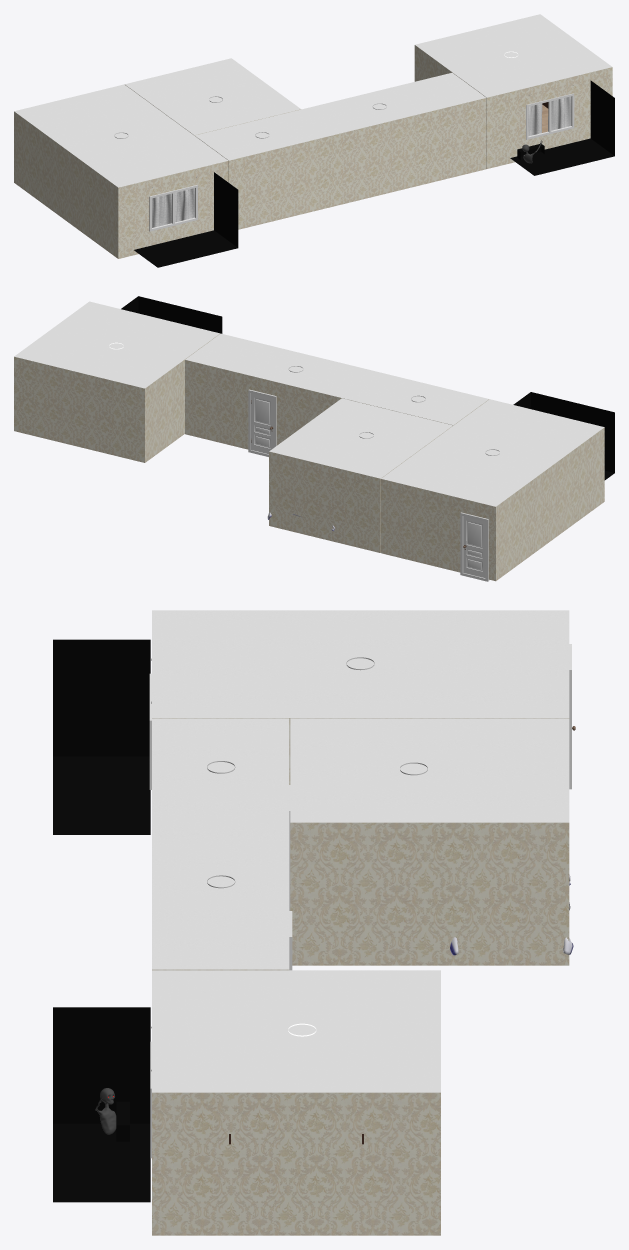
File: starting_apartment.fbx
3 renders of one model, top to bottom at view 1: azimuth 30°, elevation 25°; view 2: azimuth 150°, elevation 25°; view 3: azimuth 270°, elevation 25°, orthographic. The views are drawn at different scales.
Visible parts, largest first — view 1: Corridor1, Room1, Room3, Room2, baseWindow.003, baseWindow.002, Curtains1, Curtains2, baseWindow, baseWindow.001; view 2: Room1, Room3, Corridor1, Room2, baseWindow.002, baseWindow.003, doorBoard.001, doorBoard.004, BaseB.001, BaseB.004; view 3: Room3, Room2, Room1, Corridor1, baseWindow.002, baseWindow.003.
Boxes of the visible parts, bbox=[...] form: Corridor1: bbox=[194, 73, 486, 229]; Room1: bbox=[14, 84, 228, 258]; Room3: bbox=[414, 14, 612, 168]; Room2: bbox=[125, 58, 301, 135]; baseWindow.003: bbox=[510, 80, 614, 175]; baseWindow.002: bbox=[134, 172, 238, 267]; Curtains1: bbox=[152, 176, 196, 227]; Curtains2: bbox=[528, 84, 573, 136]; baseWindow: bbox=[526, 93, 574, 139]; baseWindow.001: bbox=[149, 185, 197, 231]; Room1: bbox=[381, 399, 604, 581]; Room3: bbox=[14, 301, 220, 462]; Corridor1: bbox=[185, 333, 489, 449]; Room2: bbox=[269, 398, 453, 552]; baseWindow.002: bbox=[513, 392, 614, 480]; baseWindow.003: bbox=[121, 296, 222, 333]; doorBoard.001: bbox=[463, 516, 485, 578]; doorBoard.004: bbox=[251, 393, 273, 454]; BaseB.001: bbox=[460, 512, 489, 581]; BaseB.004: bbox=[248, 389, 276, 456]; Room3: bbox=[152, 970, 440, 1235]; Room2: bbox=[290, 718, 569, 965]; Room1: bbox=[152, 610, 569, 784]; Corridor1: bbox=[152, 718, 289, 970]; baseWindow.002: bbox=[53, 639, 150, 834]; baseWindow.003: bbox=[53, 1007, 150, 1202].
Size of the model in its own units: 1984 by 282 by 908.
